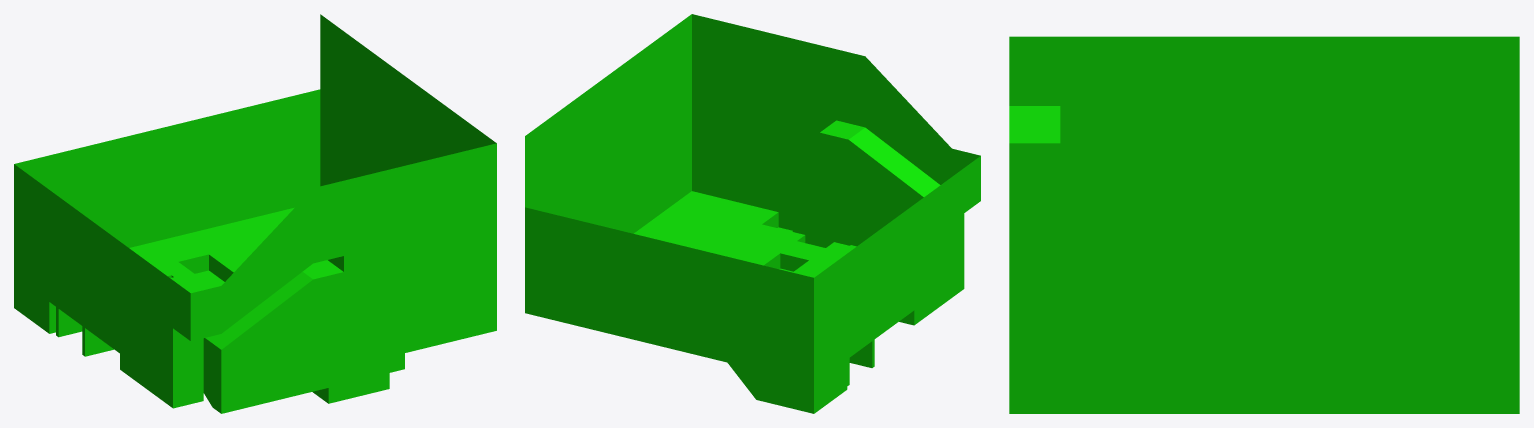
Rendered from Prueba de juego Captain Toad_COLLIDER.fbx.
3 views of the same model, side by side, from view 1: azimuth 30°, elevation 25°; view 2: azimuth 150°, elevation 25°; view 3: azimuth 270°, elevation 25° (orthographic). The views are drawn at different scales.
Visible parts, largest first — view 1: base_mesh_collider; view 2: base_mesh_collider; view 3: base_mesh_collider.
Boxes of the visible parts, bbox=[...] form: base_mesh_collider: bbox=[14, 14, 496, 413]; base_mesh_collider: bbox=[525, 14, 980, 413]; base_mesh_collider: bbox=[1009, 36, 1519, 413].
Bounding box in the file's own units: 20 × 13.7 × 20.
